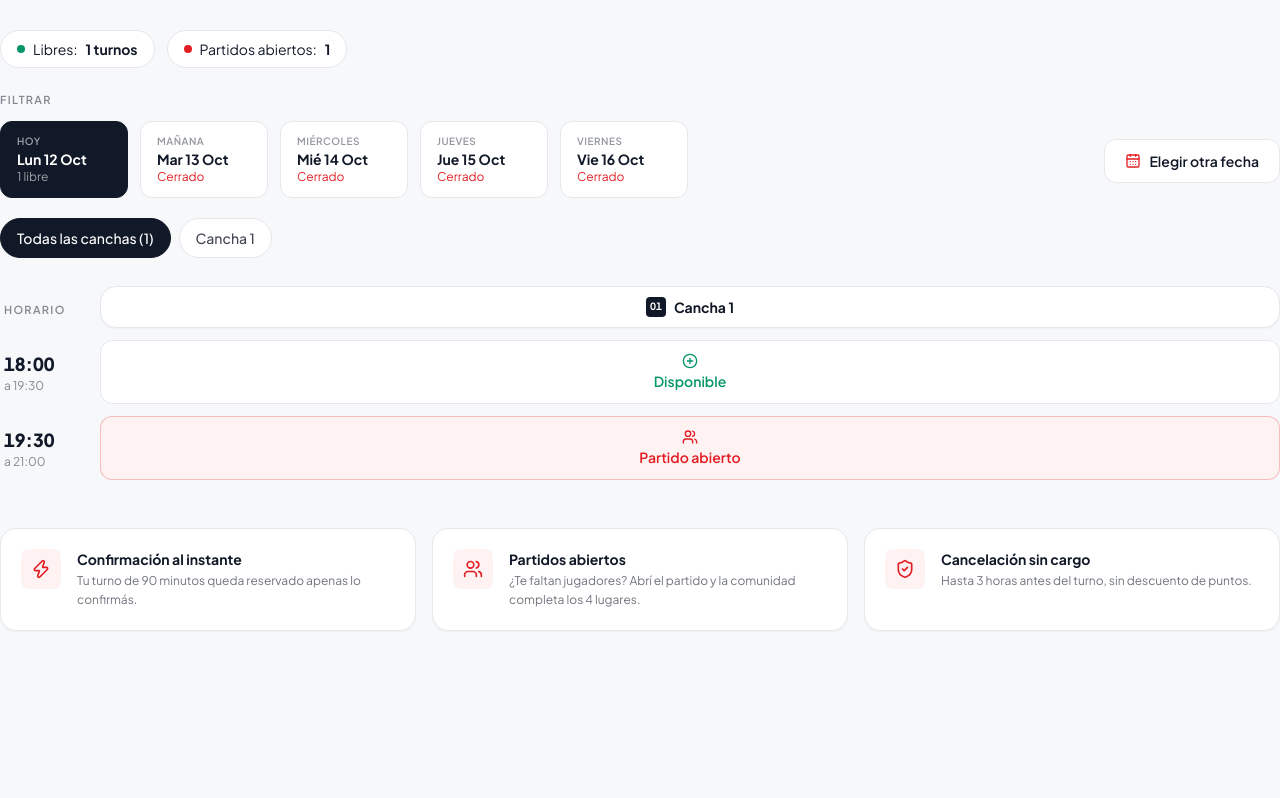
Test: BookingsBoard › sin categoría cargada, al elegir un partido abierto le pide completarla en su perfil
The image size is (1280, 798).
Click the button with aria-label "Cancha 1, 19:30, partido abierto" at (690,448), box [100,416,1279,480]
(page scrolled)
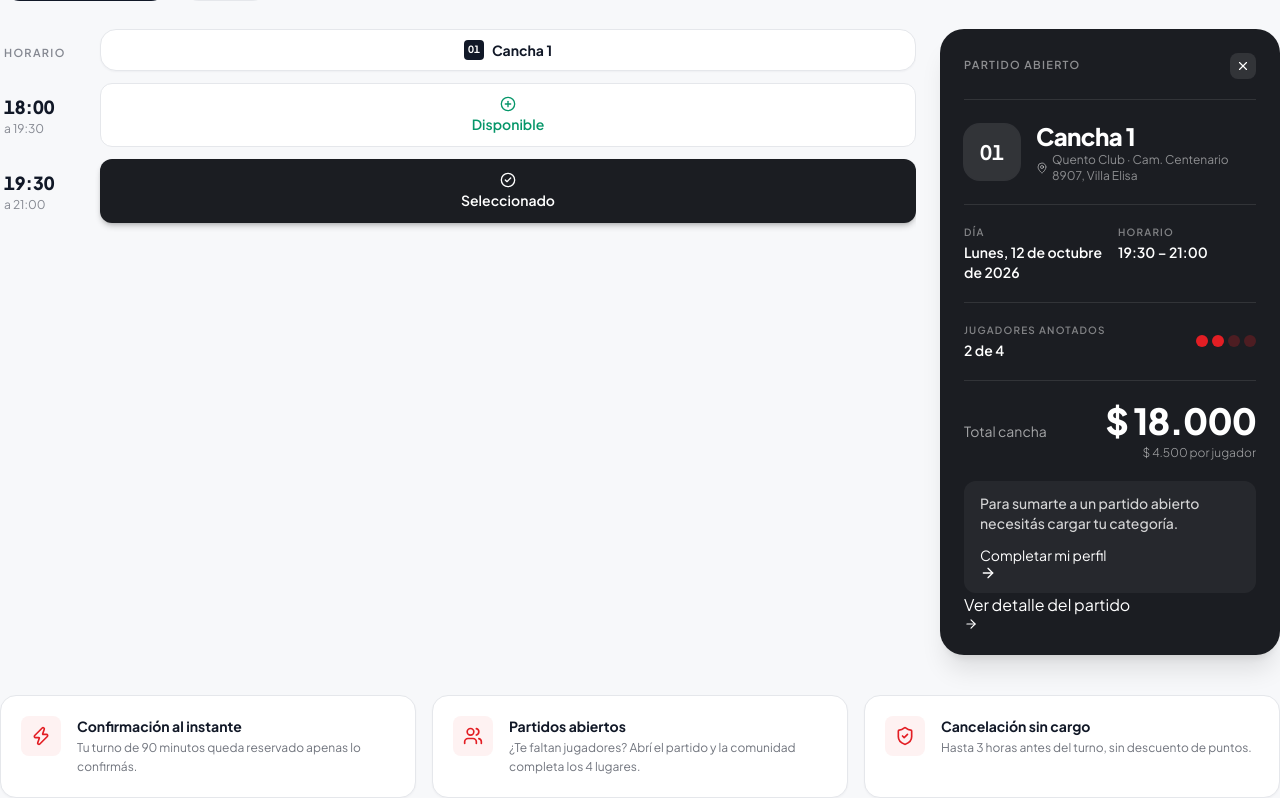
Now the text "Para sumarte a un partido abierto necesitás cargar tu categoría." is shown, box [980,494,1200,532]
